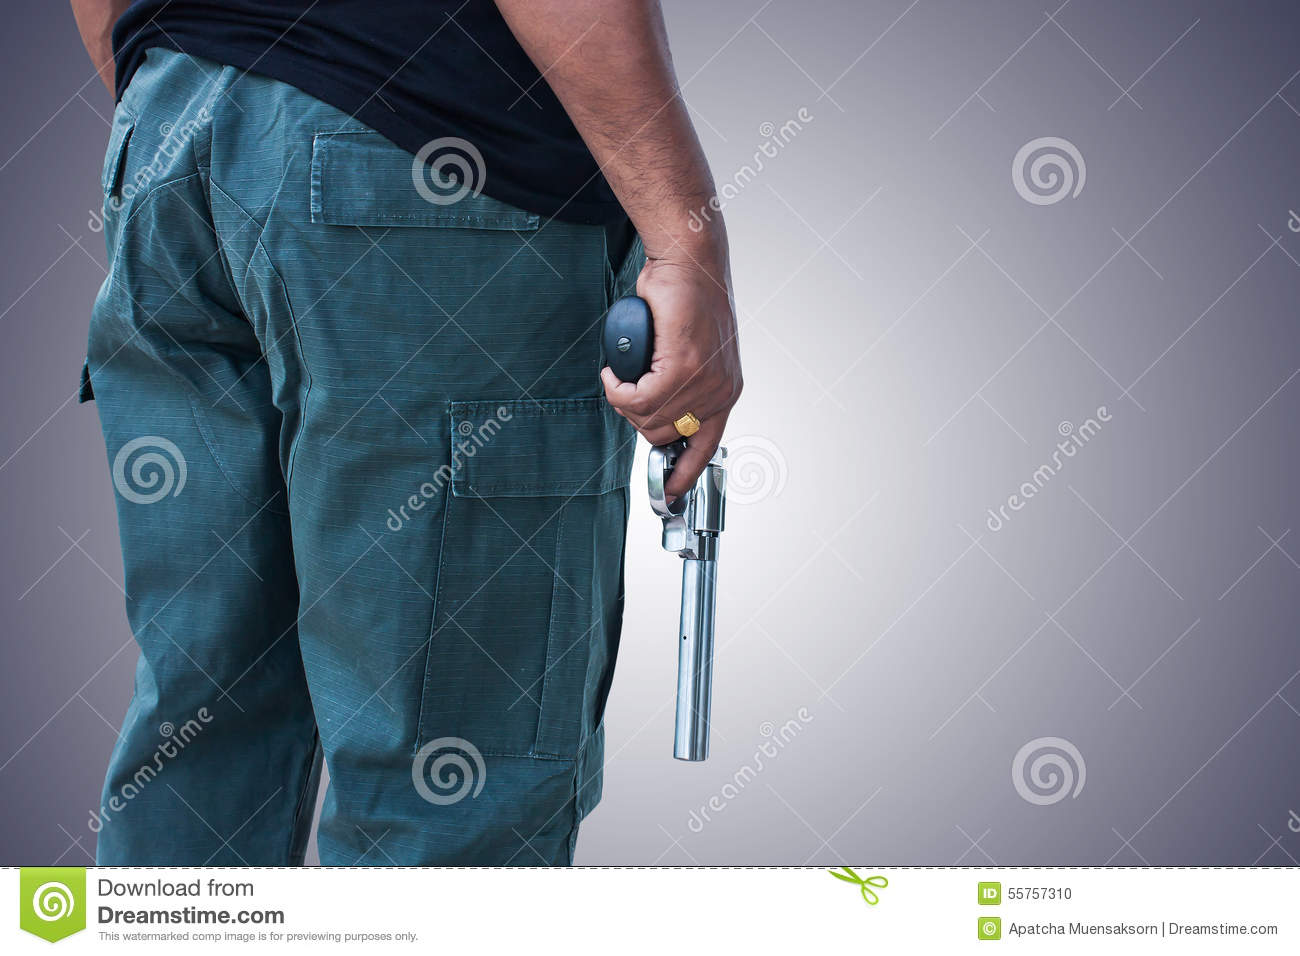Revolver: (586, 258, 777, 767)
